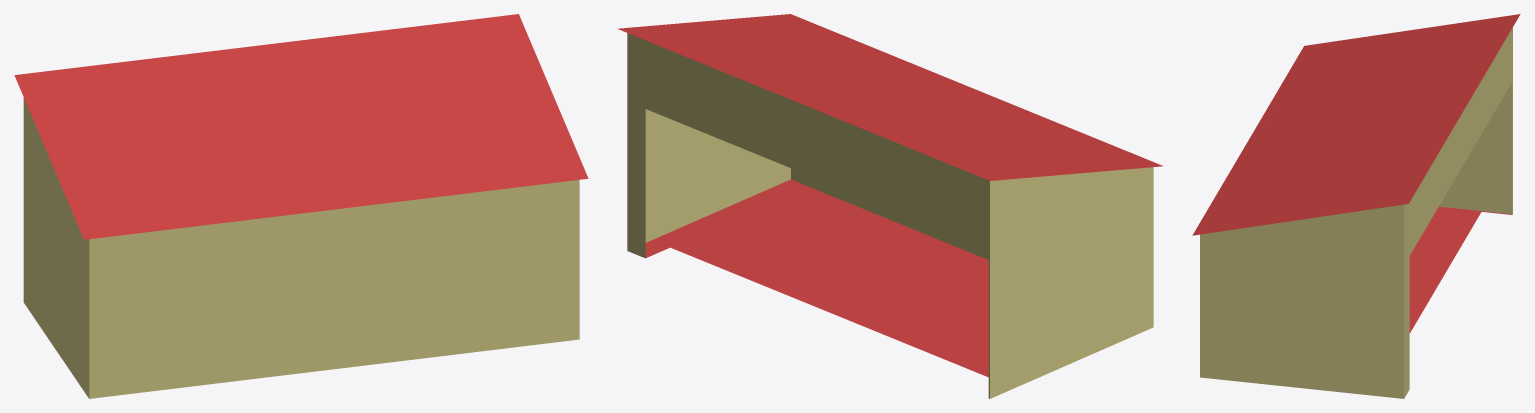
The picture shows the model from 3 angles, left to right: view 1: azimuth 30°, elevation 25°; view 2: azimuth 150°, elevation 25°; view 3: azimuth 270°, elevation 25°; orthographic projection. The views are drawn at different scales.
Bounding box in the file's own units: 19.37 × 12.64 × 8.43.
